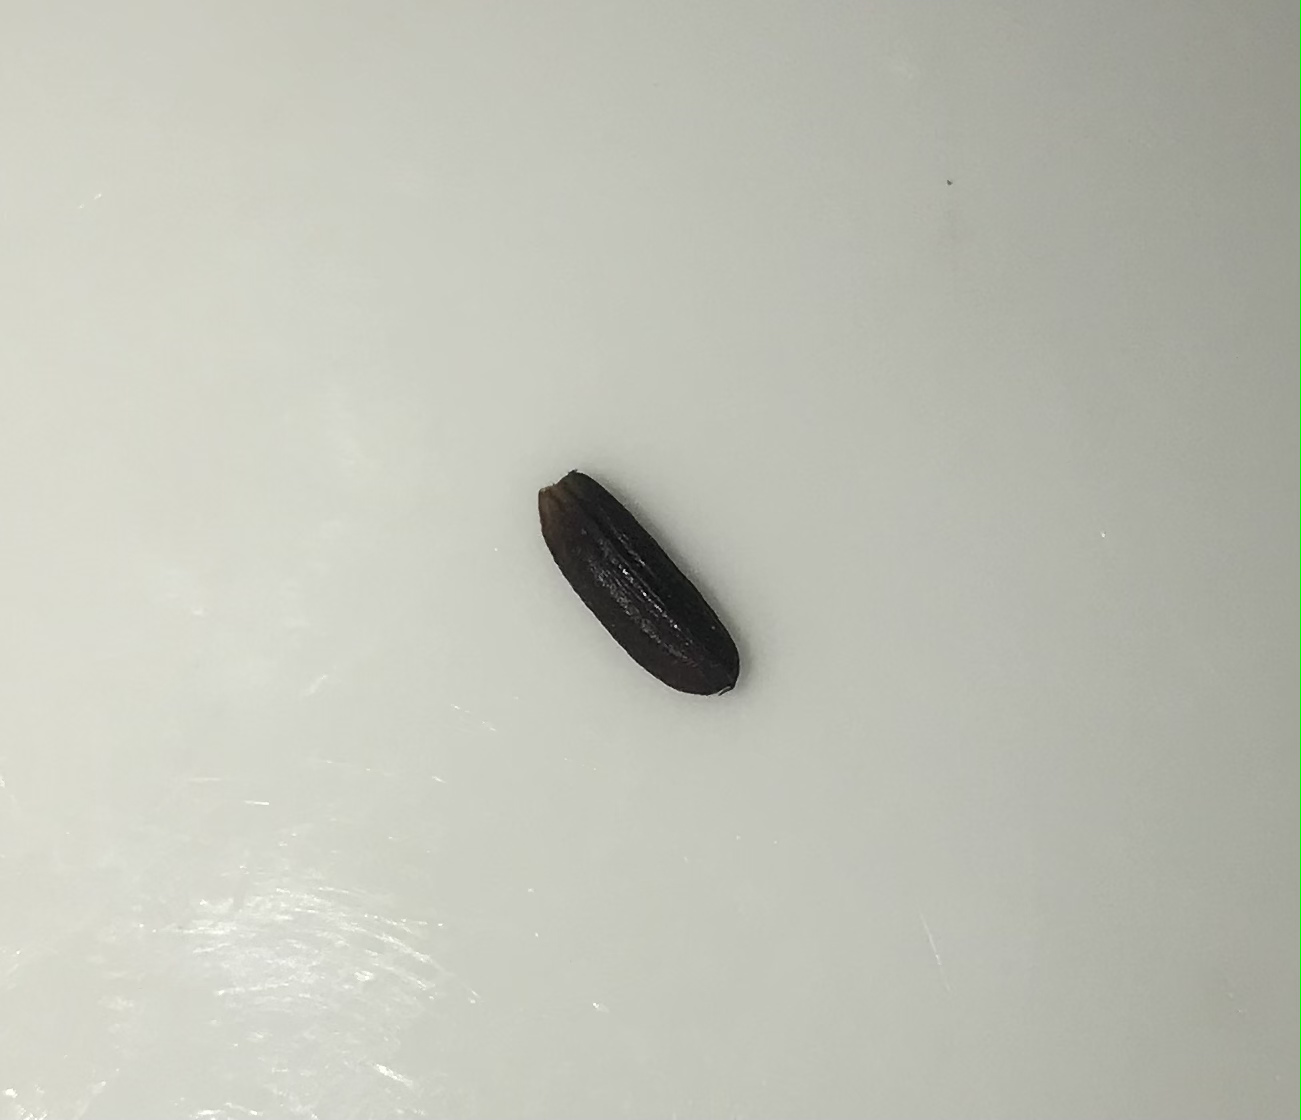Gao lut: (530, 459, 746, 711)
